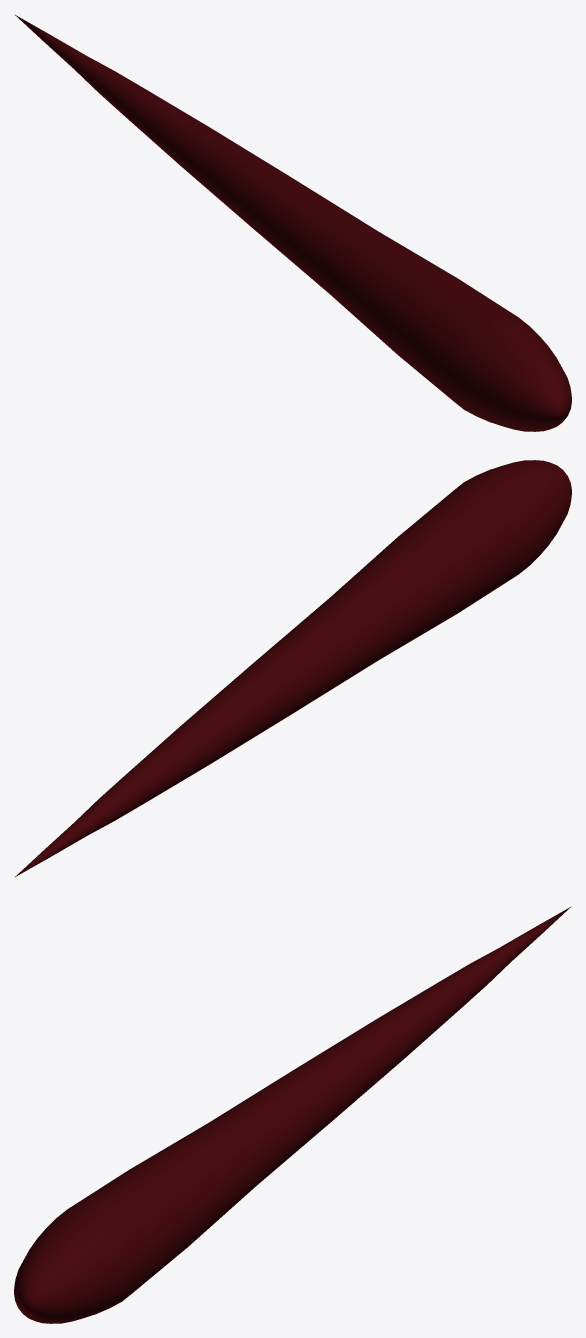
The model's file is projectil3.fbx.
The picture shows the model from 3 angles, top to bottom: view 1: azimuth 30°, elevation 25°; view 2: azimuth 150°, elevation 25°; view 3: azimuth 330°, elevation 25°; orthographic projection.
Visible parts, largest first — view 1: pSphere4; view 2: pSphere4; view 3: pSphere4.
Boxes of the visible parts, x1=… form: pSphere4: x1=14, y1=14, x2=571, y2=431; pSphere4: x1=14, y1=460, x2=571, y2=877; pSphere4: x1=14, y1=906, x2=571, y2=1323.
Bounding box in the file's own units: 1.98 × 1.98 × 20.01.
